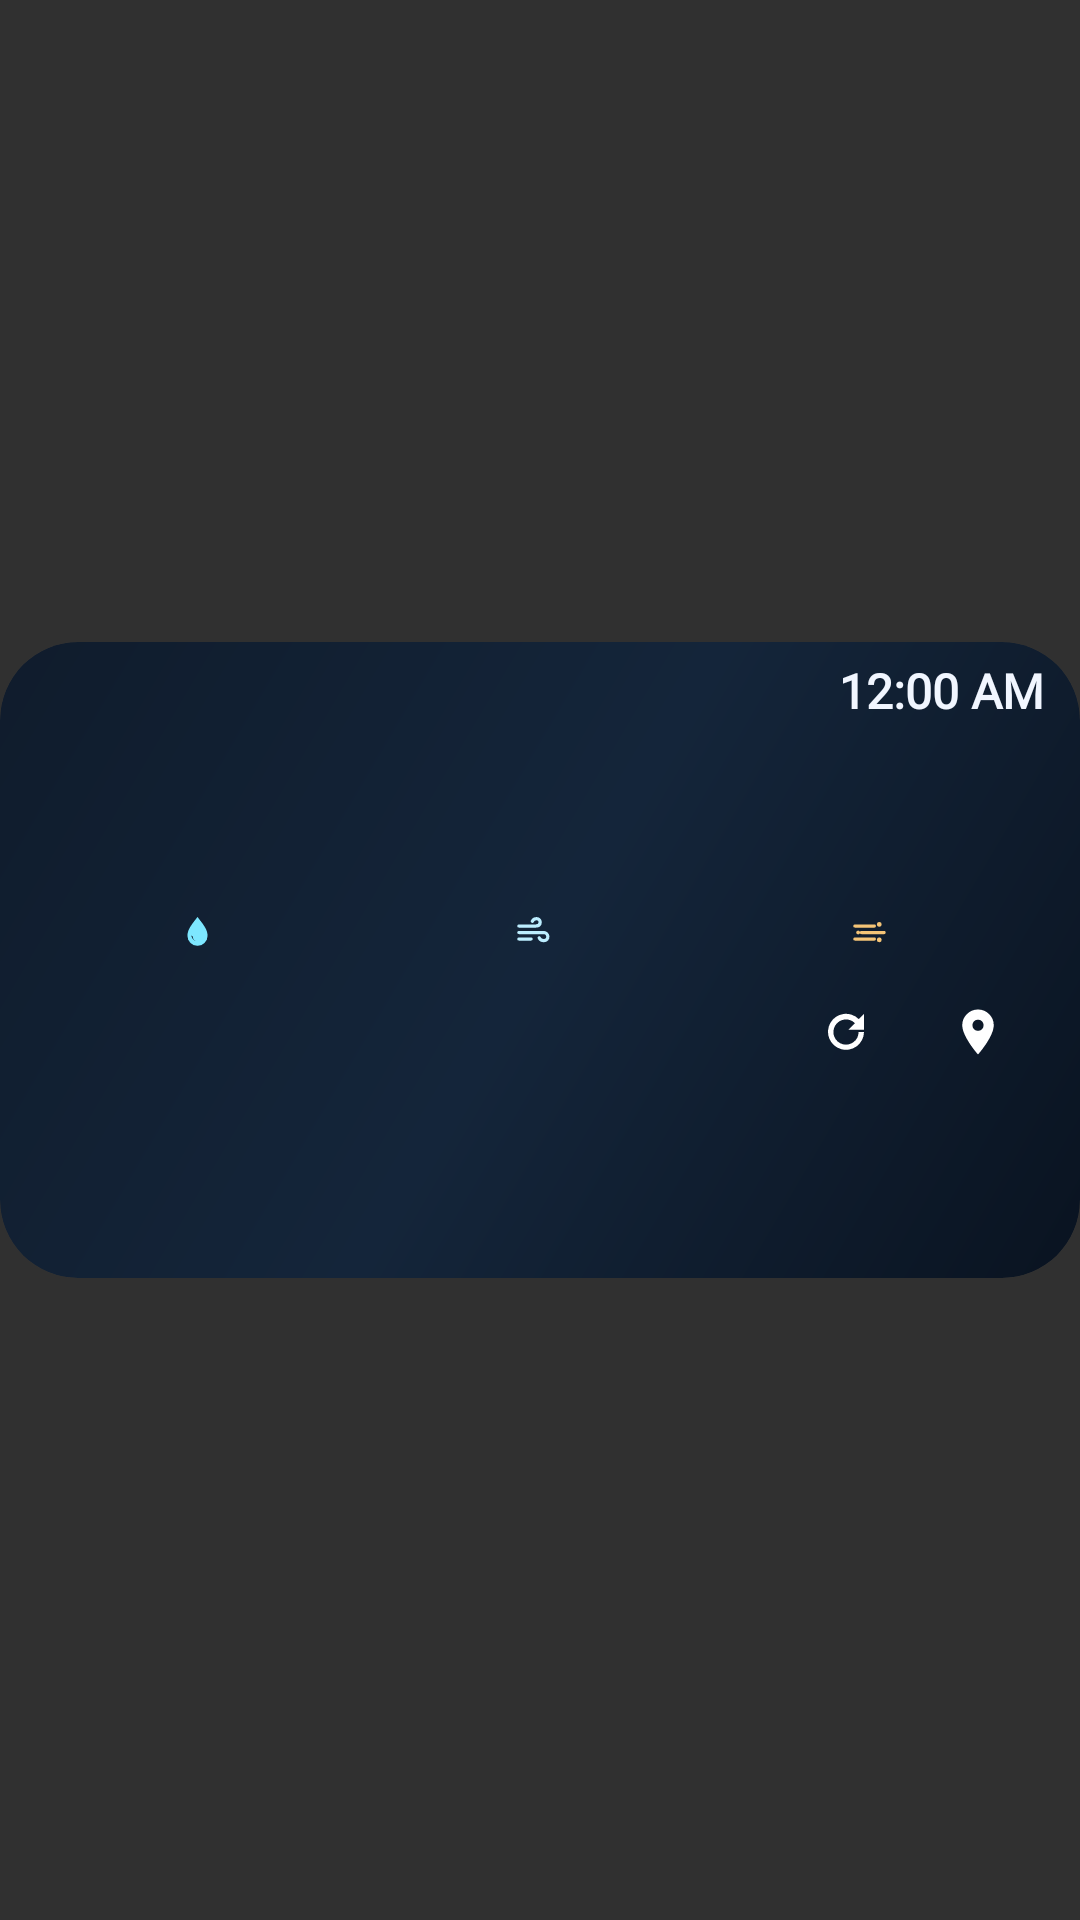

Screen size 1080 x 1920. Icon name, then its center in pixels as (x=x, y=y):
LOCATE: (x=978, y=1031)
widget dust: (x=869, y=932)
widget humidity: (x=197, y=931)
widget wind: (x=533, y=930)
نوێکردنەوەی کەشوھەوا: (x=846, y=1031)
